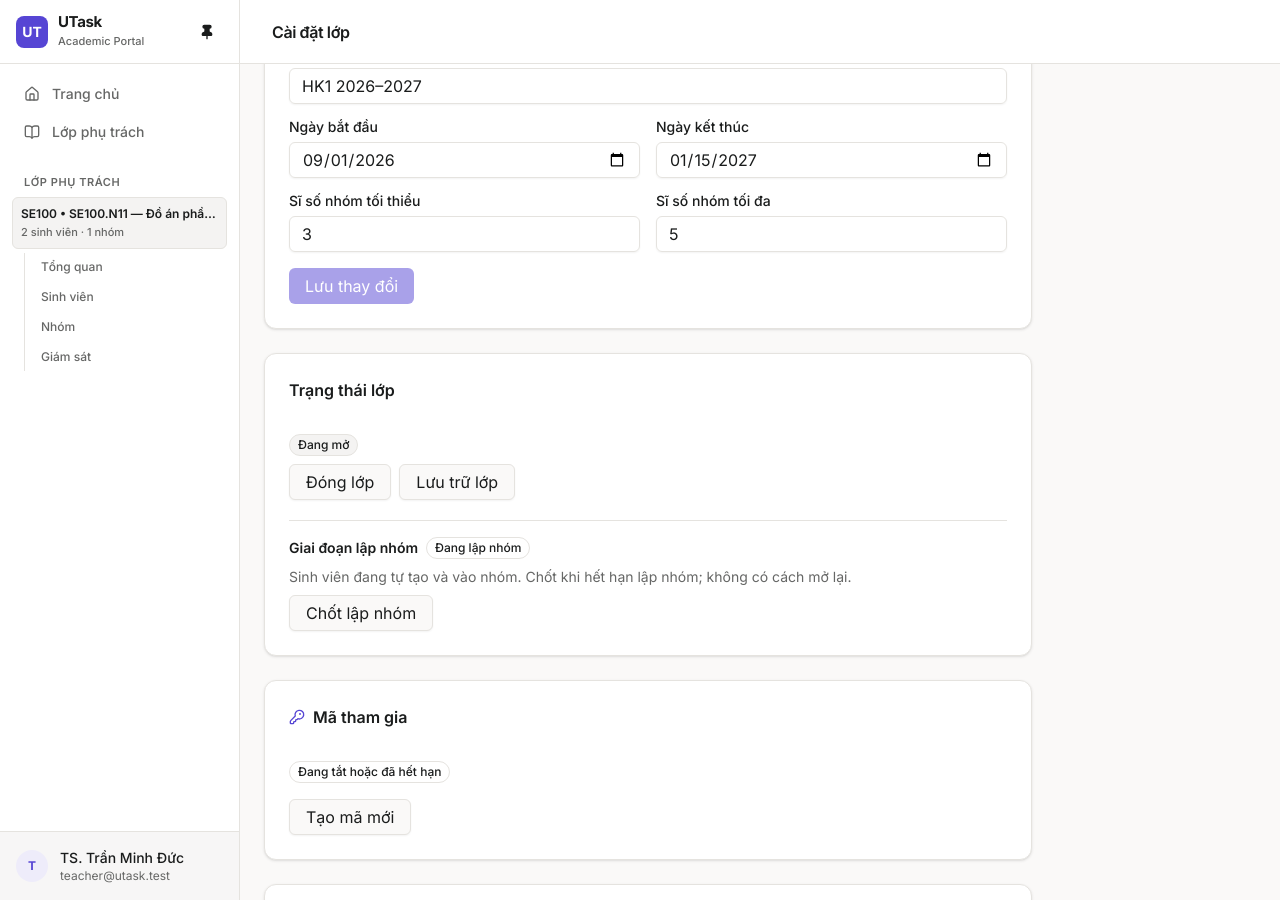
Test case: real class settings › closes the class after confirmation and reports the server's refusal when the teacher lost access
(page scrolled)
Click the button "Đóng lớp" at {"x": 340, "y": 482}, box [289,464,391,500]
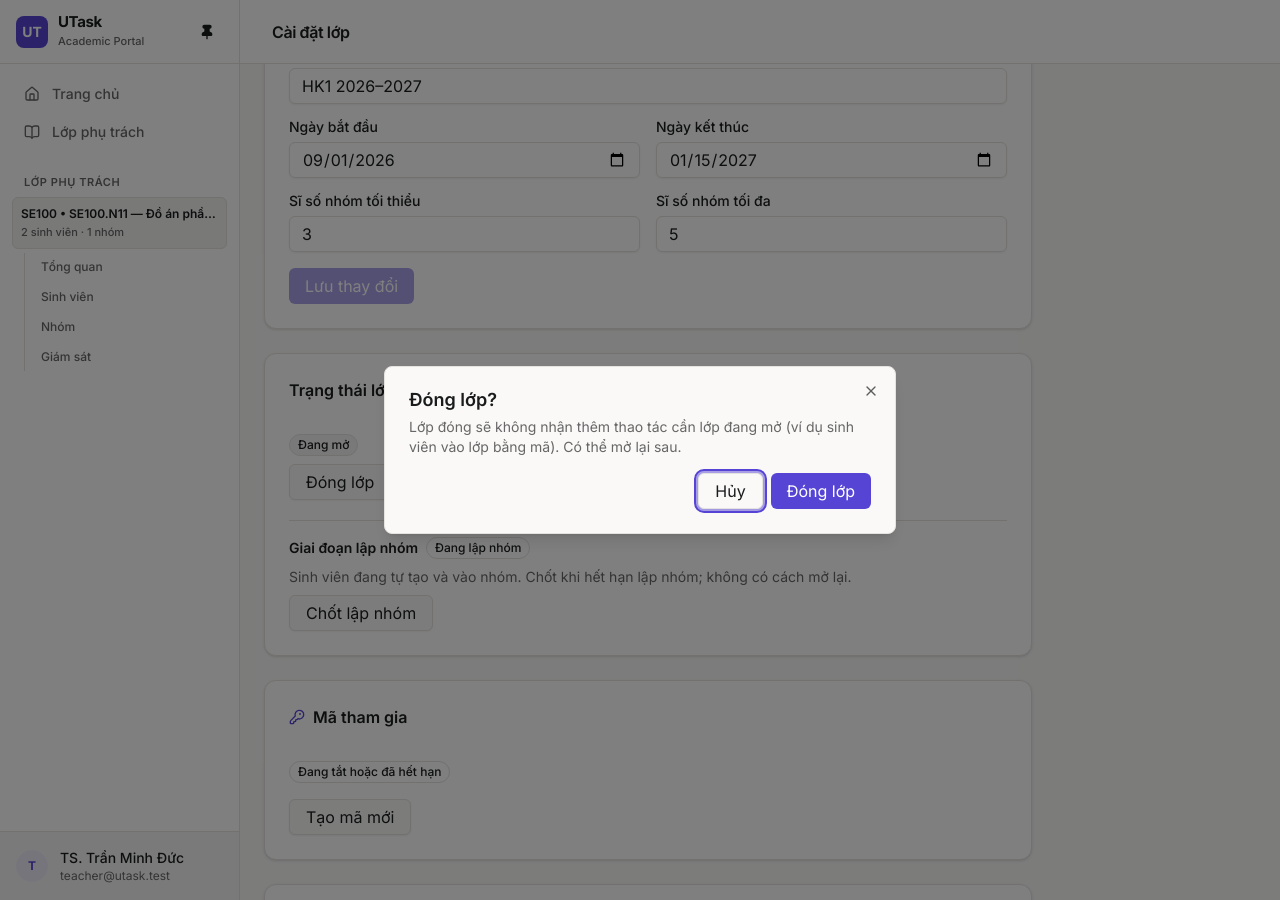
Click the button "Đóng lớp" at {"x": 821, "y": 491}, box [771,473,871,509]
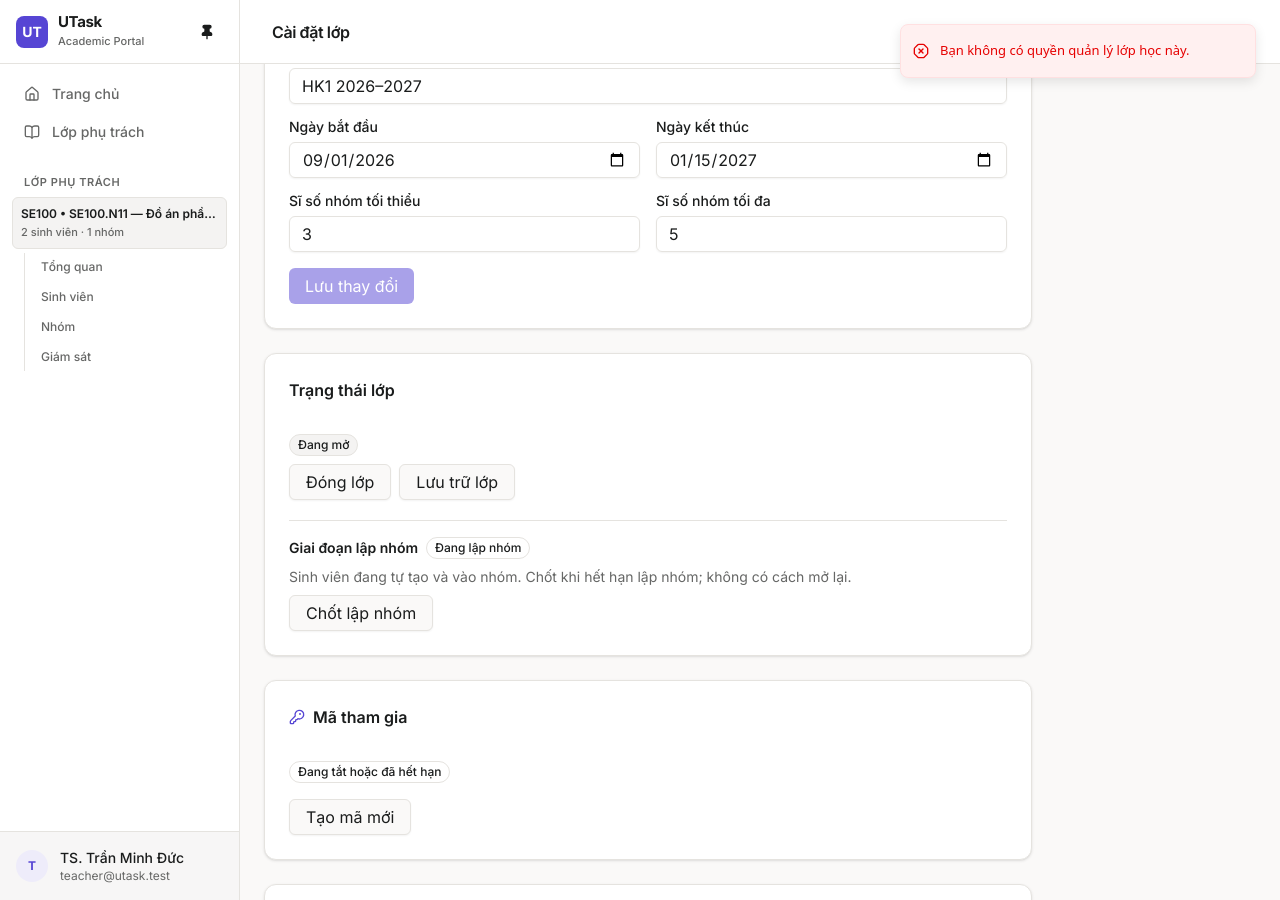
Result: the text "Bạn không có quyền quản lý lớp học này." is shown at [940,41,1190,60]
